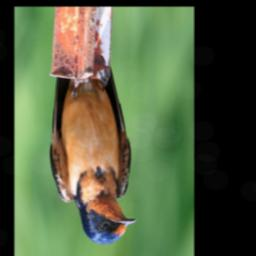Swallow: (49, 53, 136, 245)
